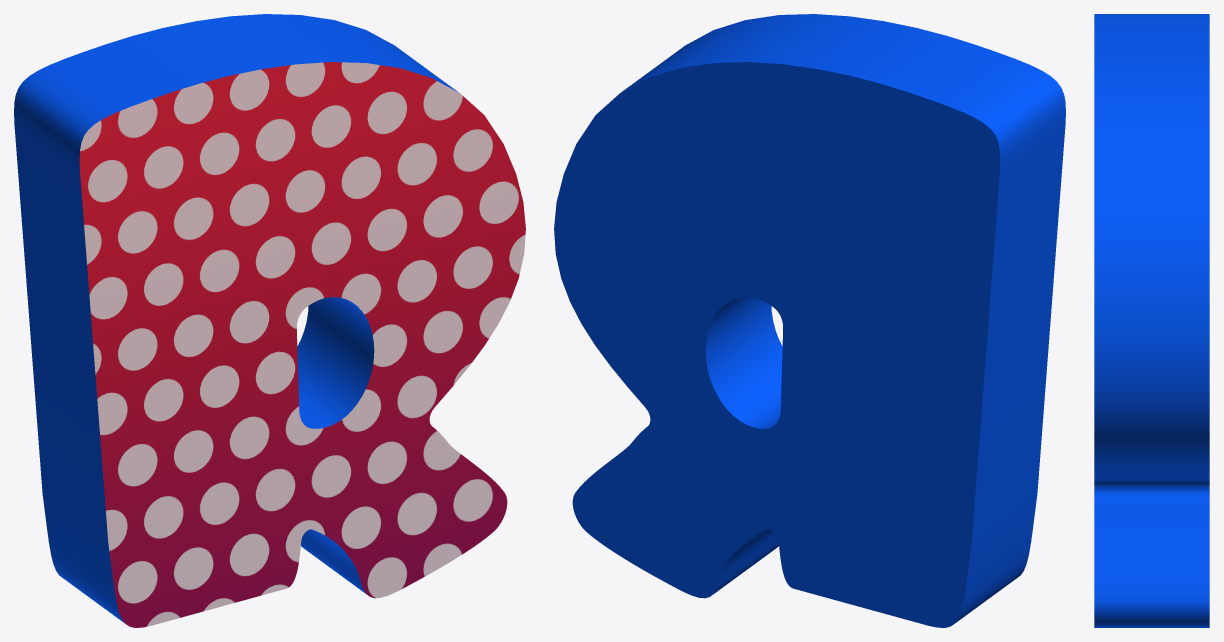
3 views of the same model, side by side, from view 1: azimuth 30°, elevation 25°; view 2: azimuth 150°, elevation 25°; view 3: azimuth 270°, elevation 25° (orthographic). The views are drawn at different scales.
Visible parts, largest first — view 1: R; view 2: R; view 3: R.
Boxes of the visible parts, bbox=[...] form: R: bbox=[14, 14, 525, 627]; R: bbox=[554, 14, 1065, 627]; R: bbox=[1094, 14, 1209, 627].
Bounding box in the file's own units: 78.53 × 93.99 × 20.
2 materials, 1 textured.
